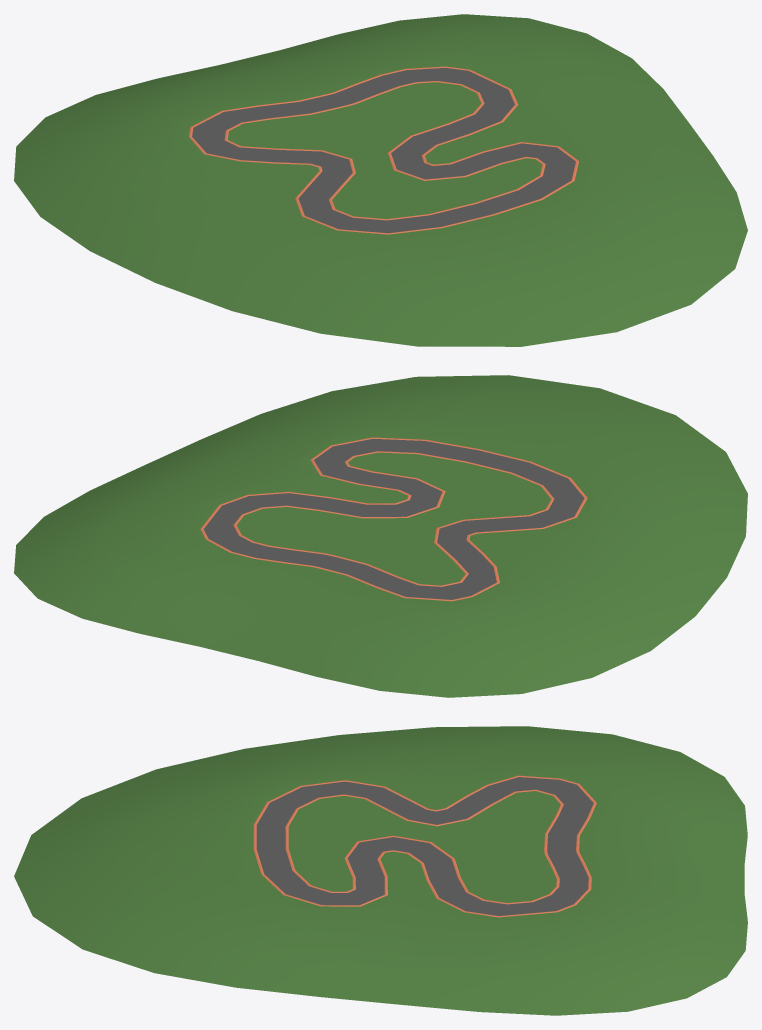
File: SM_track_v3.fbx
3 renders of one model, top to bottom at view 1: azimuth 30°, elevation 25°; view 2: azimuth 150°, elevation 25°; view 3: azimuth 270°, elevation 25°, orthographic. The views are drawn at different scales.
Visible parts, largest first — view 1: SM_track_v3; view 2: SM_track_v3; view 3: SM_track_v3.
Part boxes in pixels (left/top/right/bottom): SM_track_v3: left=14, top=14, right=747, bottom=346; SM_track_v3: left=14, top=375, right=747, bottom=697; SM_track_v3: left=14, top=726, right=747, bottom=1015.
Bounding box in the file's own units: 300 × 322 × 13.14.
